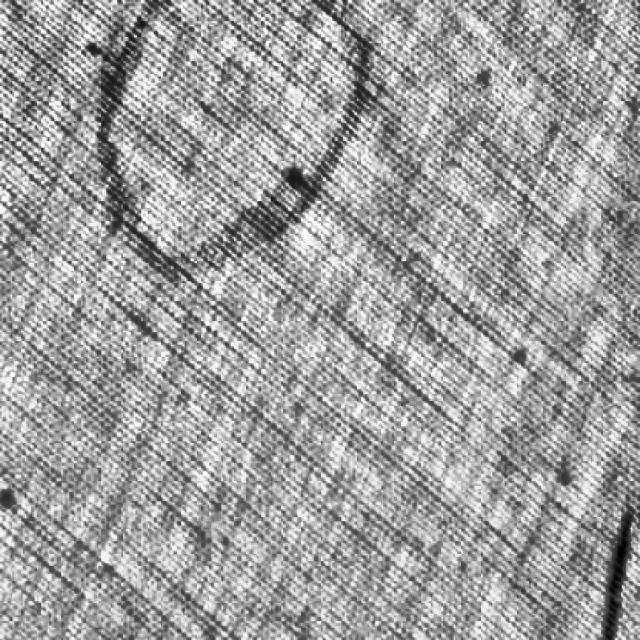oil_spot: (74, 0, 394, 290), (590, 504, 639, 640)
